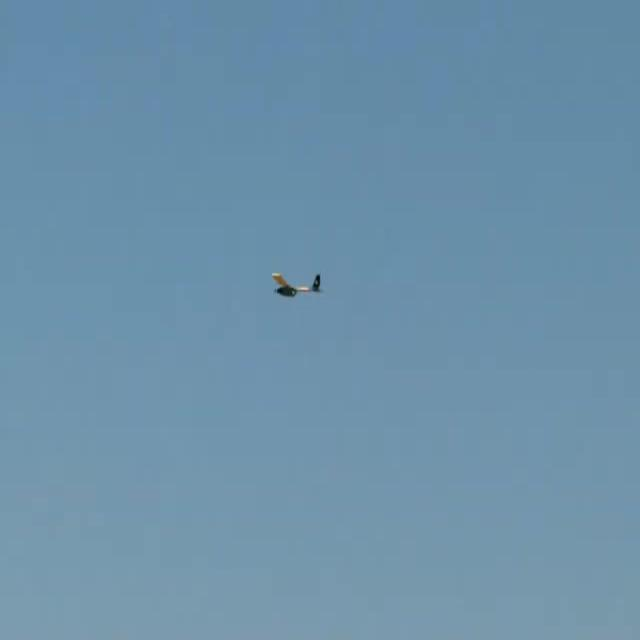iha: (271, 273, 322, 298)
